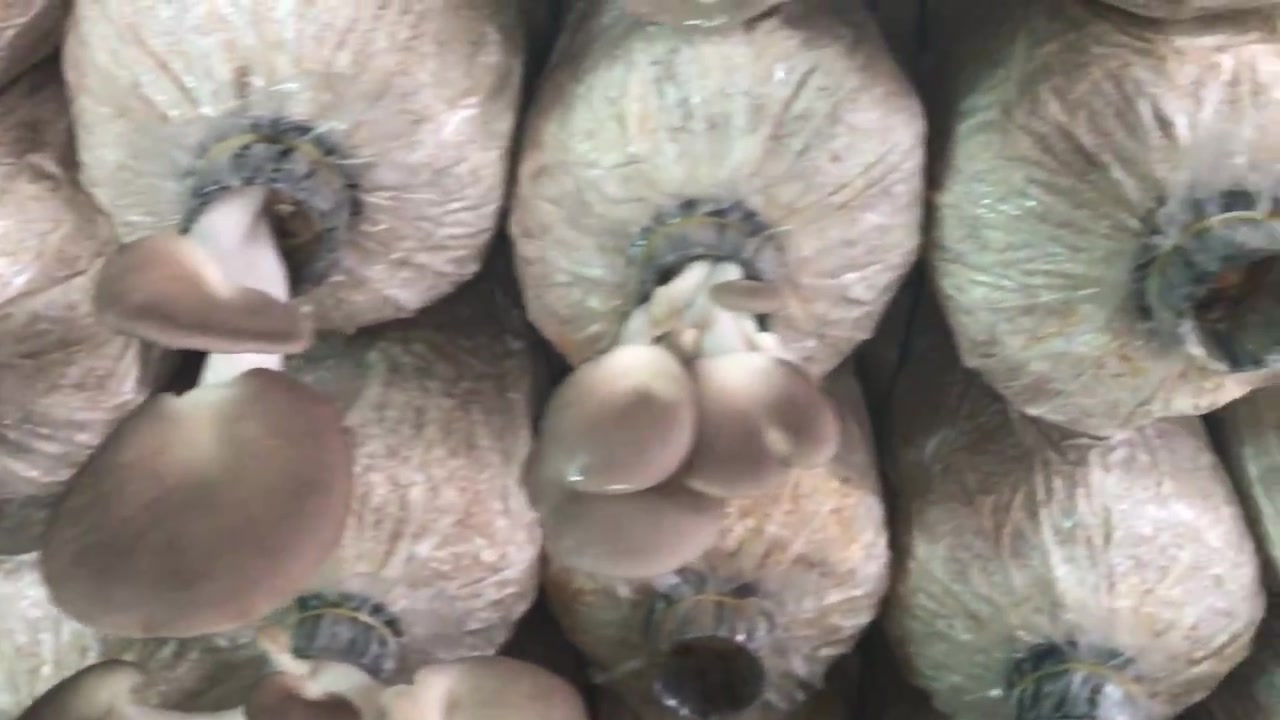nam: (39, 138, 359, 641), (528, 214, 843, 580), (18, 593, 602, 720)
